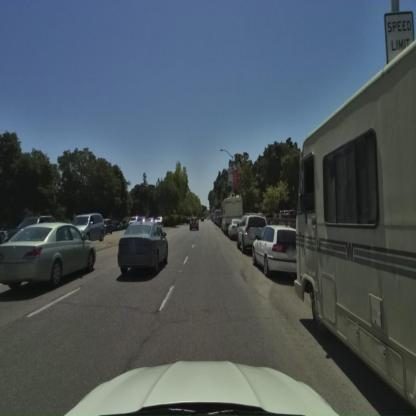bus: (294, 10, 415, 414)
car: (0, 223, 98, 290), (117, 221, 170, 280), (252, 227, 297, 282), (237, 216, 268, 255), (72, 213, 106, 241), (228, 220, 238, 240), (190, 218, 200, 230)
truck: (221, 196, 244, 232)
